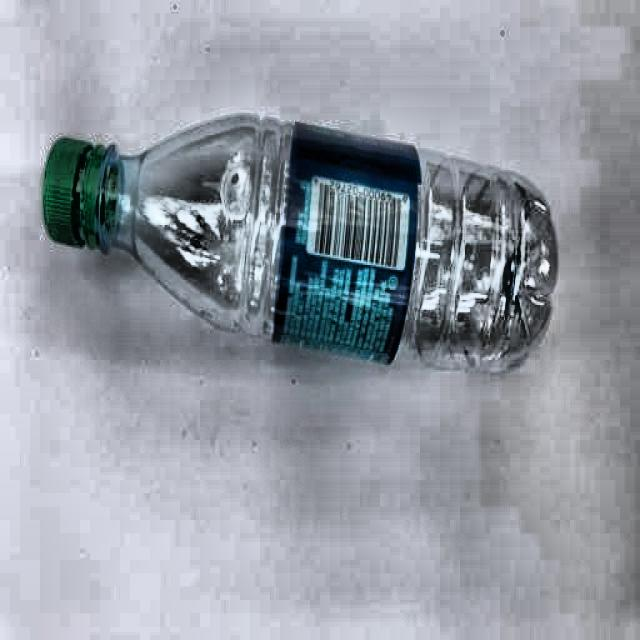plastic: (36, 111, 560, 382)
